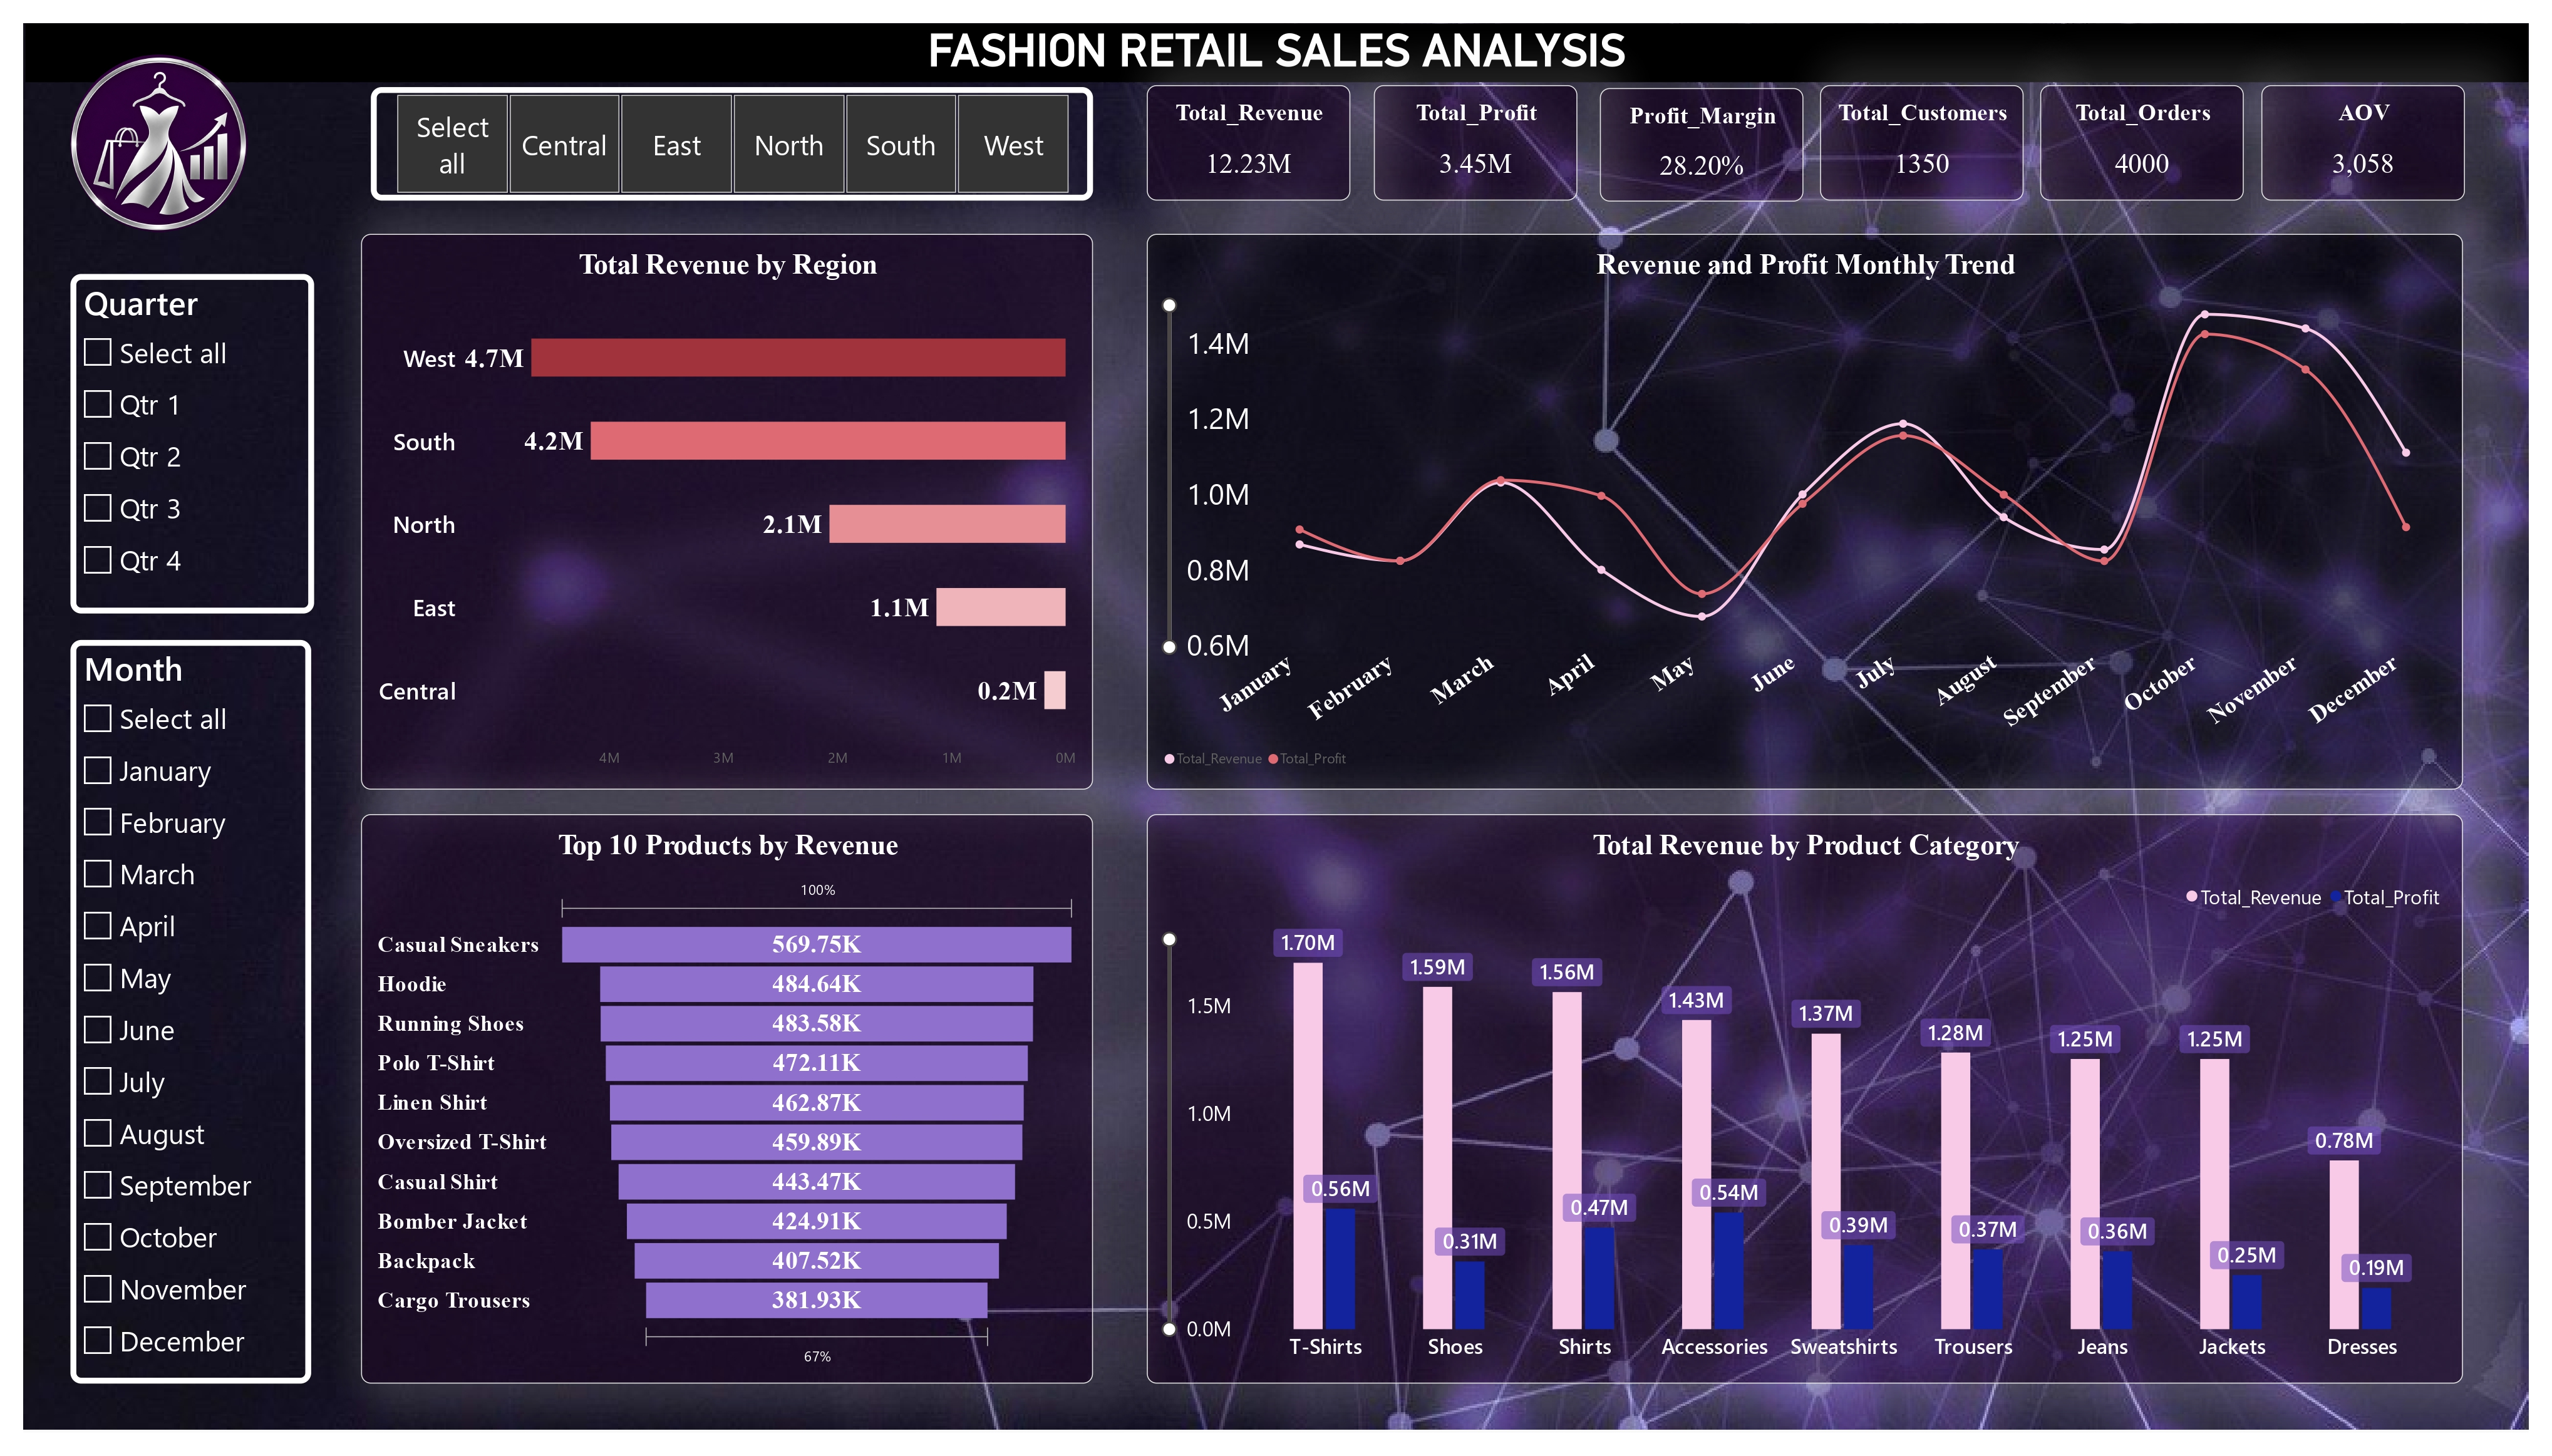

What the dashboard file says about the page in this screenshot:
{"tool":"powerbi","page":{"name":"Executive_Dashboard","canvas":[2560,1440],"ordinal":0},"visuals":[{"type":"card","title":"Profit_Margin","fields":{"Values":["Measure.Profit_Margin"]},"box":[1611.4,65.7,208,116],"z":0},{"type":"shape","title":"FASHION RETAIL SALES ANALYSIS","box":[2,0,2558,60],"z":1000},{"type":"card","title":"Total_Customers","fields":{"Values":["Measure.Total_Customers"]},"box":[1835.7,62.9,208,118],"z":2000},{"type":"card","title":"AOV","fields":{"Values":["Measure.AOV"]},"box":[2286.7,63.3,208,118],"z":3000},{"type":"card","title":"Total_Profit","fields":{"Values":["Measure.Total_Profit"]},"box":[1380,62.5,208,118],"z":4000},{"type":"card","title":"Total_Orders","fields":{"Values":["Measure.Total_Orders"]},"box":[2061.4,62.9,208,118],"z":5000},{"type":"card","title":"Total_Revenue","fields":{"Values":["Measure.Total_Revenue"]},"box":[1147.5,62.5,208,118],"z":6000},{"type":"image","box":[48.3,29,181,185.8],"z":7000},{"type":"lineChart","title":"Revenue and Profit Monthly Trend","fields":{"Category":["Date_dim.Order_Date.Variation.Date Hierarchy.Year","Date_dim.Order_Date.Variation.Date Hierarchy.Quarter","Date_dim.Order_Date.Variation.Date Hierarchy.Month","Date_dim.Order_Date.Variation.Date Hierarchy.Day"],"Y":["Measure.Total_Revenue"],"Y2":["Measure.Total_Profit"]},"box":[1147.5,215,1345,567.5],"z":8000},{"type":"clusteredColumnChart","title":"Total Revenue by Product Category","fields":{"Category":["Product_dim.Product_Category"],"Y":["Measure.Total_Revenue","measure.Total_Profit"]},"box":[1147.5,807.5,1345,582.5],"z":9000},{"type":"barChart","title":"Total Revenue by Region","fields":{"Category":["Territory_dim.Region"],"Y":["Measure.Total_Revenue"]},"box":[345,215,747.5,567.5],"z":10000},{"type":"funnel","title":"Top 10 Products by Revenue","fields":{"Category":["Product_dim.Product_Name"],"Y":["Measure.Total_Revenue"]},"box":[345,807.5,747.5,582.5],"z":11000},{"type":"slicer","fields":{"Values":["Date_dim.Order_Date.Variation.Date Hierarchy.Quarter"]},"box":[48.3,255.8,248.5,347.5],"z":12000},{"type":"slicer","fields":{"Values":["Date_dim.Order_Date.Variation.Date Hierarchy.Month"]},"box":[48.3,629.8,246.1,760.1],"z":13000},{"type":"slicer","fields":{"Values":["Territory_dim.Region"]},"box":[354.7,65.1,738.3,115.8],"z":14000}]}

Visuals, with their boxes on the page's 2560x1440 design canvas (x1, y1, x2, y2). These are canvas units, not pixel positions in the 2552x1456 screenshot, which may show the page scaled, cropped or inside an application window:
"Profit_Margin" card: x1=1611, y1=66, x2=1819, y2=182
"FASHION RETAIL SALES ANALYSIS" shape: x1=2, y1=0, x2=2560, y2=60
"Total_Customers" card: x1=1836, y1=63, x2=2044, y2=181
"AOV" card: x1=2287, y1=63, x2=2495, y2=181
"Total_Profit" card: x1=1380, y1=62, x2=1588, y2=180
"Total_Orders" card: x1=2061, y1=63, x2=2269, y2=181
"Total_Revenue" card: x1=1148, y1=62, x2=1356, y2=180
image: x1=48, y1=29, x2=229, y2=215
"Revenue and Profit Monthly Trend" lineChart: x1=1148, y1=215, x2=2492, y2=782
"Total Revenue by Product Category" clusteredColumnChart: x1=1148, y1=808, x2=2492, y2=1390
"Total Revenue by Region" barChart: x1=345, y1=215, x2=1092, y2=782
"Top 10 Products by Revenue" funnel: x1=345, y1=808, x2=1092, y2=1390
slicer - Date_dim.Order_Date.Variation.Date Hierarchy.Quarter: x1=48, y1=256, x2=297, y2=603
slicer - Date_dim.Order_Date.Variation.Date Hierarchy.Month: x1=48, y1=630, x2=294, y2=1390
slicer - Territory_dim.Region: x1=355, y1=65, x2=1093, y2=181
